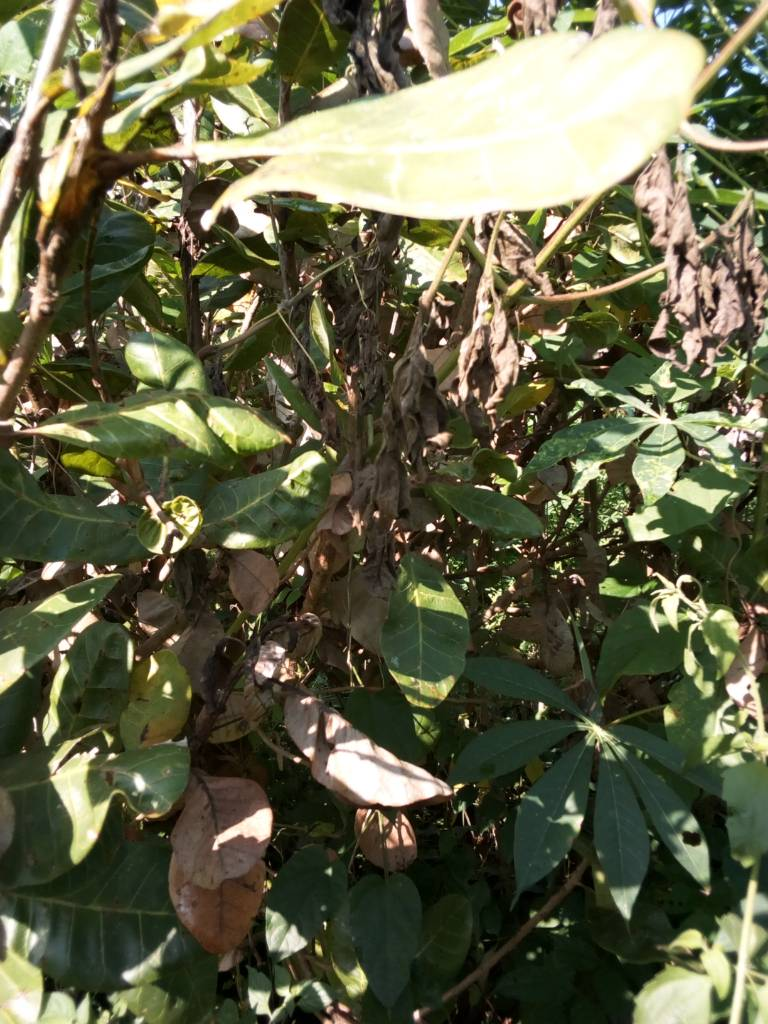Dessèchement des bourgeons: (35, 64, 121, 228)
